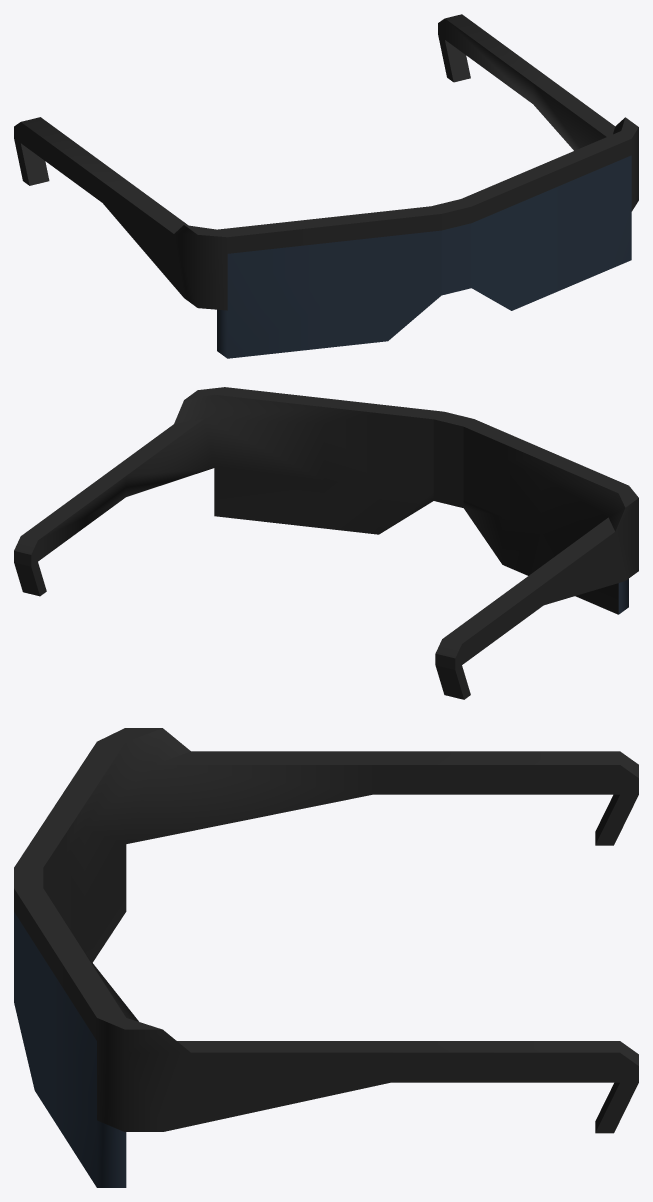
File: halvanic_face_model_2.gltf
3 renders of one model, top to bottom at view 1: azimuth 30°, elevation 25°; view 2: azimuth 150°, elevation 25°; view 3: azimuth 270°, elevation 25°, orthographic. The views are drawn at different scales.
Visible parts, largest first — view 1: Куб; view 2: Куб; view 3: Куб.
Boxes of the visible parts, bbox=[...] form: Куб: bbox=[14, 14, 638, 358]; Куб: bbox=[14, 387, 638, 699]; Куб: bbox=[14, 728, 638, 1187].
Size of the model in its own units: 16.3 by 4.29 by 14.28.
